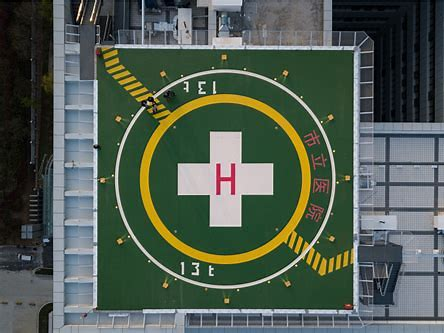H: (217, 164, 236, 196)
